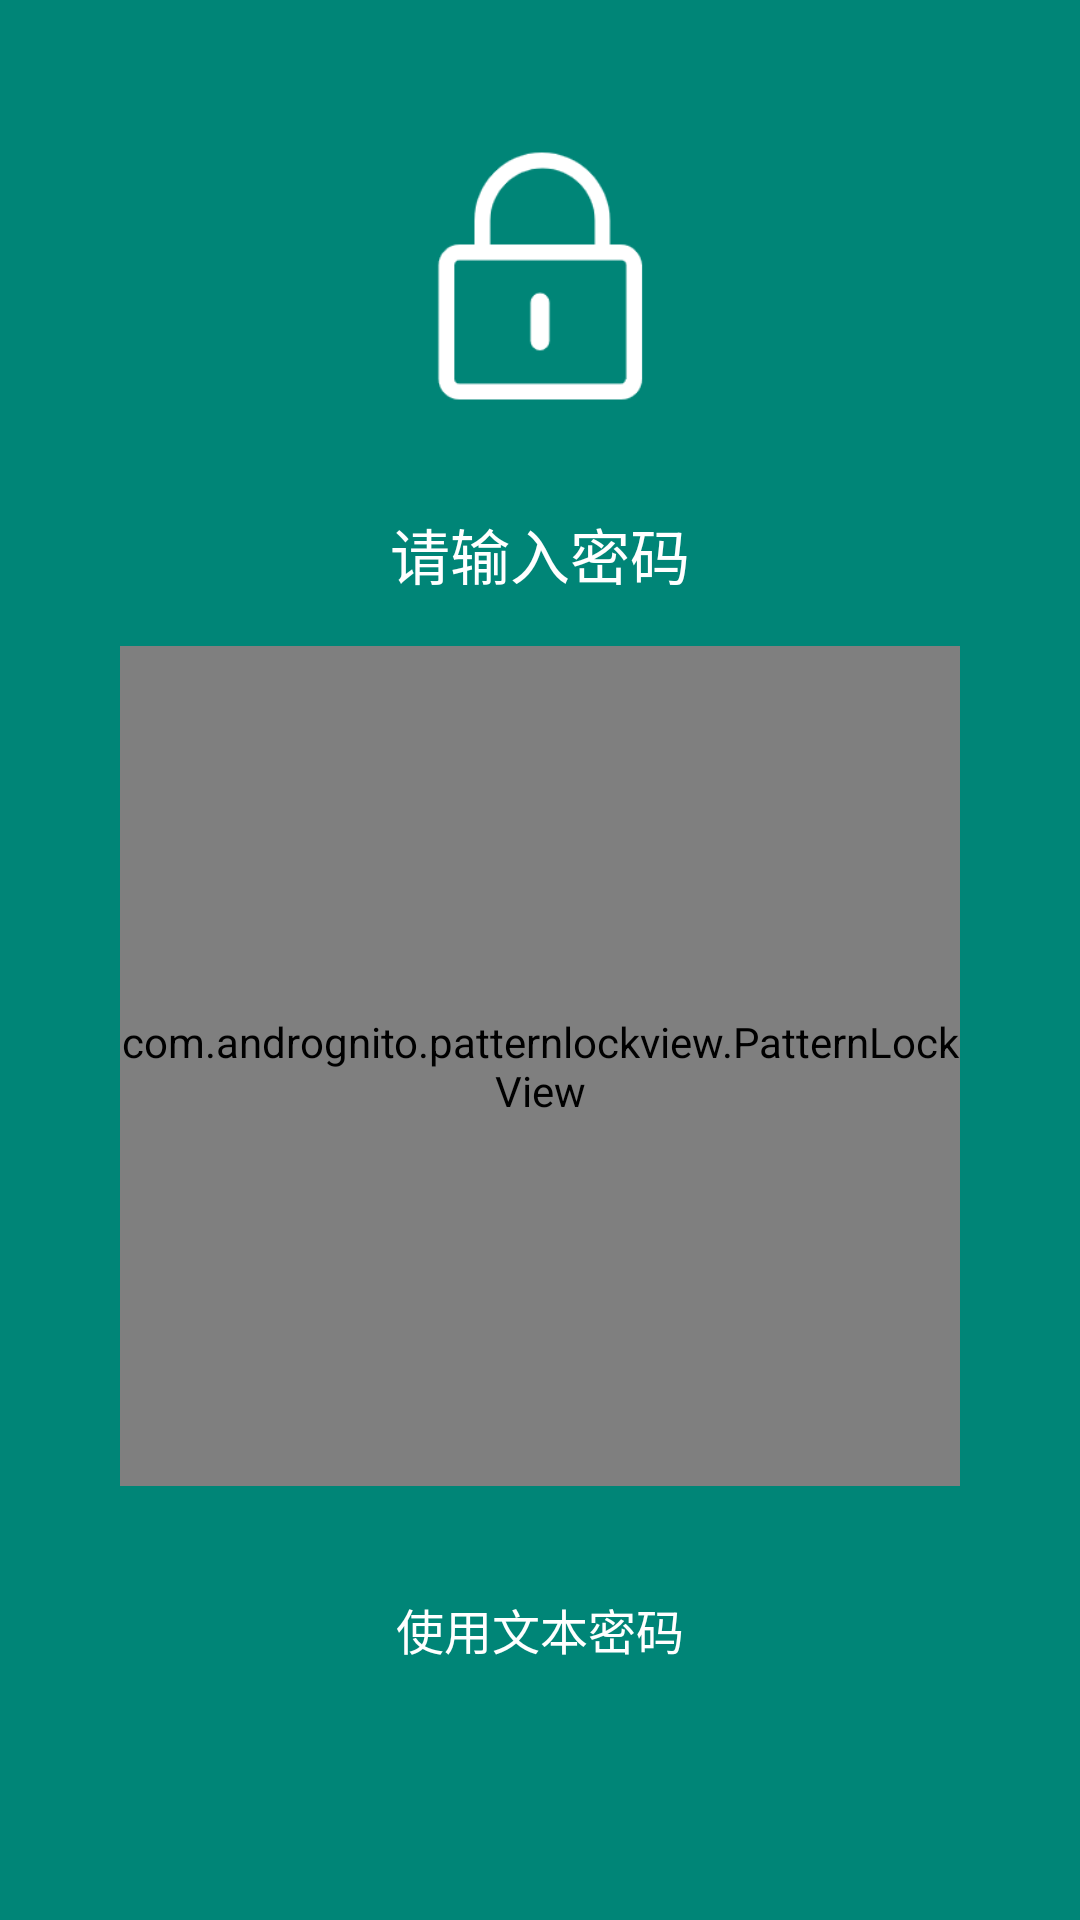

Point at icon controls on the screen. Image size 1080 × 1920, points as [x,y].
password: [540,276]
